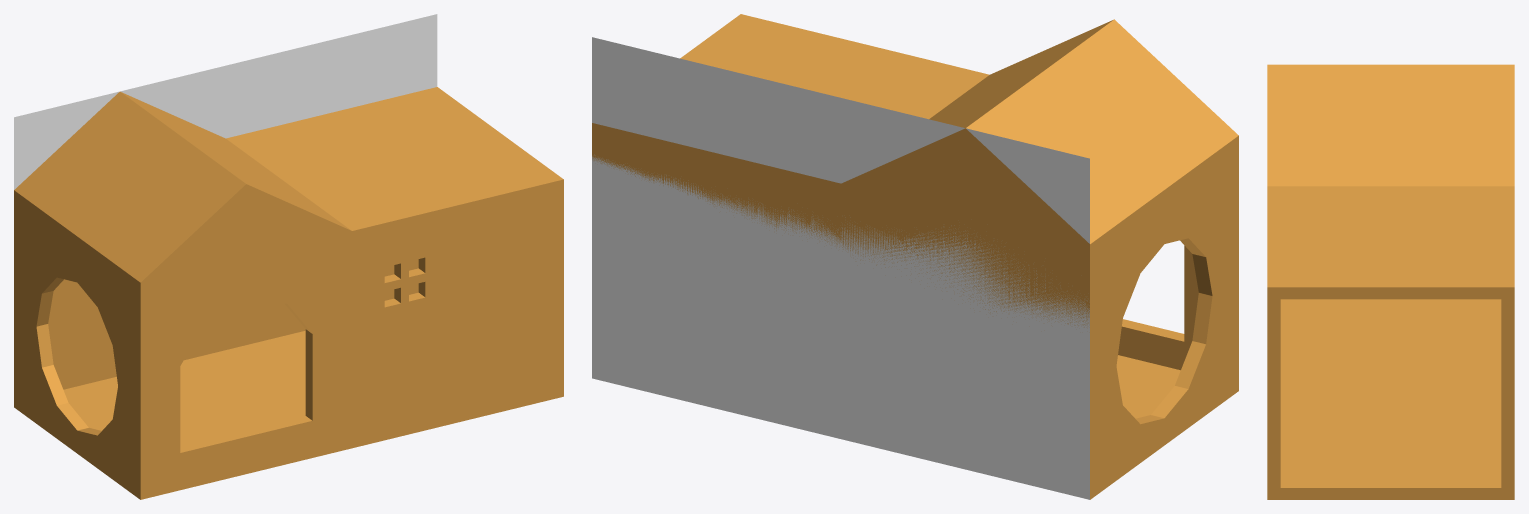
The model's file is wall-cat-house-left.glb.
3 renders of one model, left to right at view 1: azimuth 30°, elevation 25°; view 2: azimuth 150°, elevation 25°; view 3: azimuth 270°, elevation 25°, orthographic. The views are drawn at different scales.
Visible parts, largest first — view 1: 立方体.004, 大猫房子-左; view 2: 大猫房子-左, 立方体.004; view 3: 立方体.004.
Part boxes in pixels (<box>): 立方体.004: <box>14,87,563,499</box>; 大猫房子-左: <box>14,14,437,189</box>; 大猫房子-左: <box>592,37,1089,499</box>; 立方体.004: <box>592,14,1238,499</box>; 立方体.004: <box>1267,64,1514,499</box>.
Bounding box in the file's own units: 0.58 × 0.3798 × 0.3.
